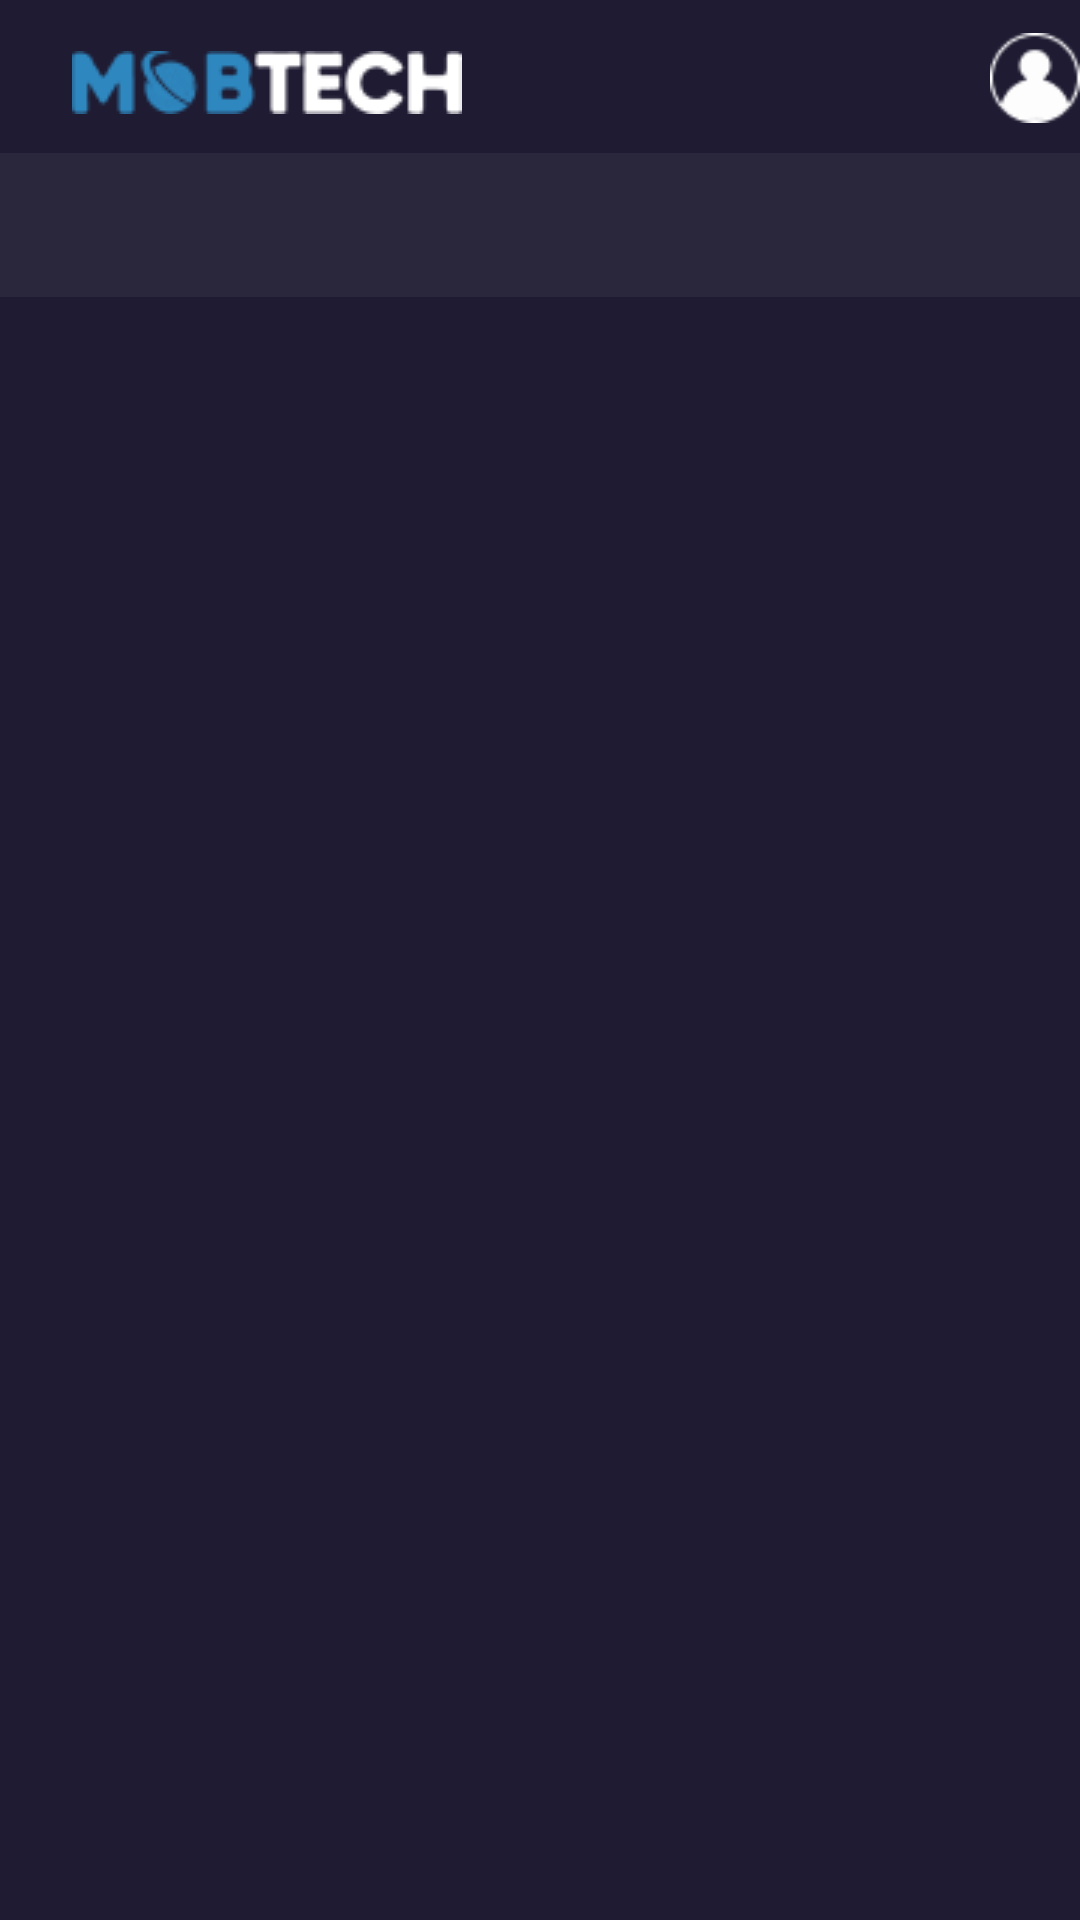

Where to tap for icons on this 1080px×1920px app screen, as (x=x, y=y):
person: (x=1035, y=78)
